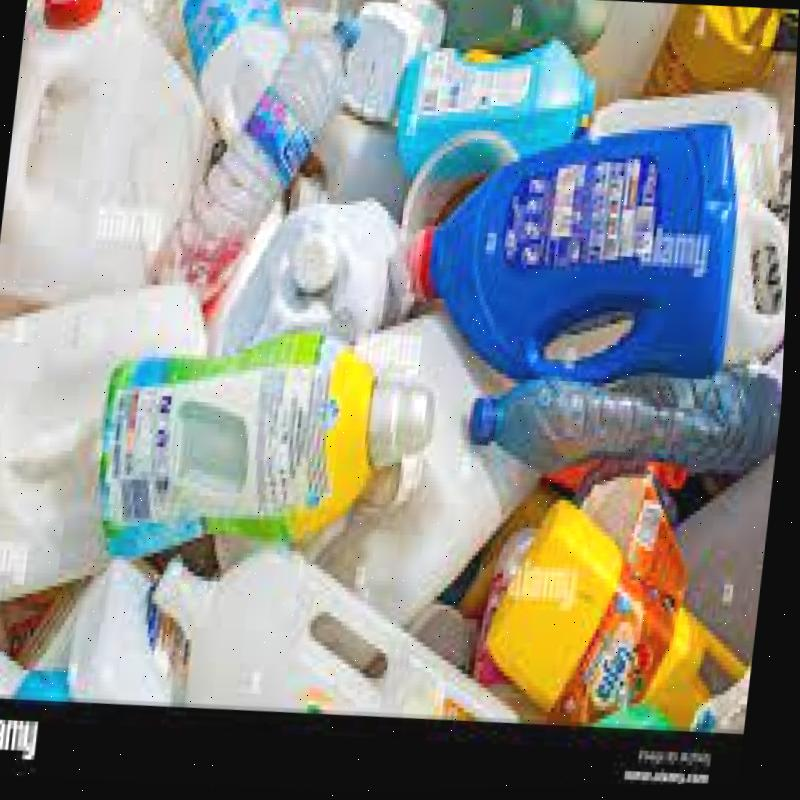botella: (145, 4, 363, 322), (468, 346, 786, 498)
